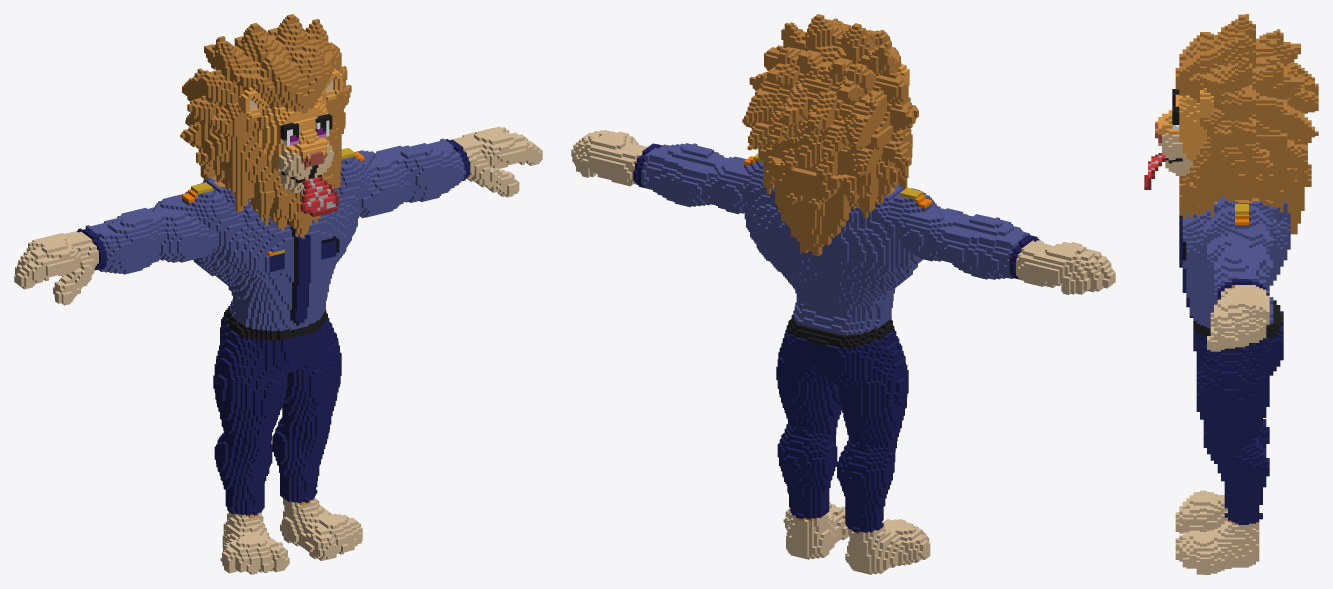
The picture shows the model from 3 angles, left to right: view 1: azimuth 30°, elevation 25°; view 2: azimuth 150°, elevation 25°; view 3: azimuth 270°, elevation 25°; orthographic projection. The views are drawn at different scales.
Visible parts, largest first — view 1: meat; view 2: meat; view 3: meat.
Boxes of the visible parts, left/top/right/bottom form: meat: left=14, top=14, right=542, bottom=574; meat: left=571, top=14, right=1115, bottom=574; meat: left=1144, top=14, right=1318, bottom=574.
Bounding box in the file's own units: 17.2 × 16.5 × 5.
5 materials, 5 textured.
